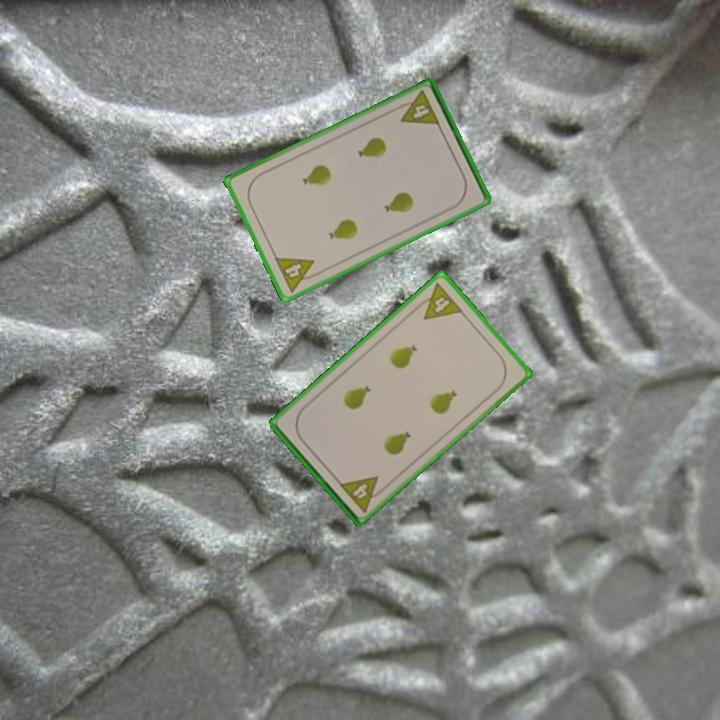4p: (411, 279, 466, 323), (335, 472, 389, 515), (271, 253, 323, 295), (392, 87, 443, 129)
